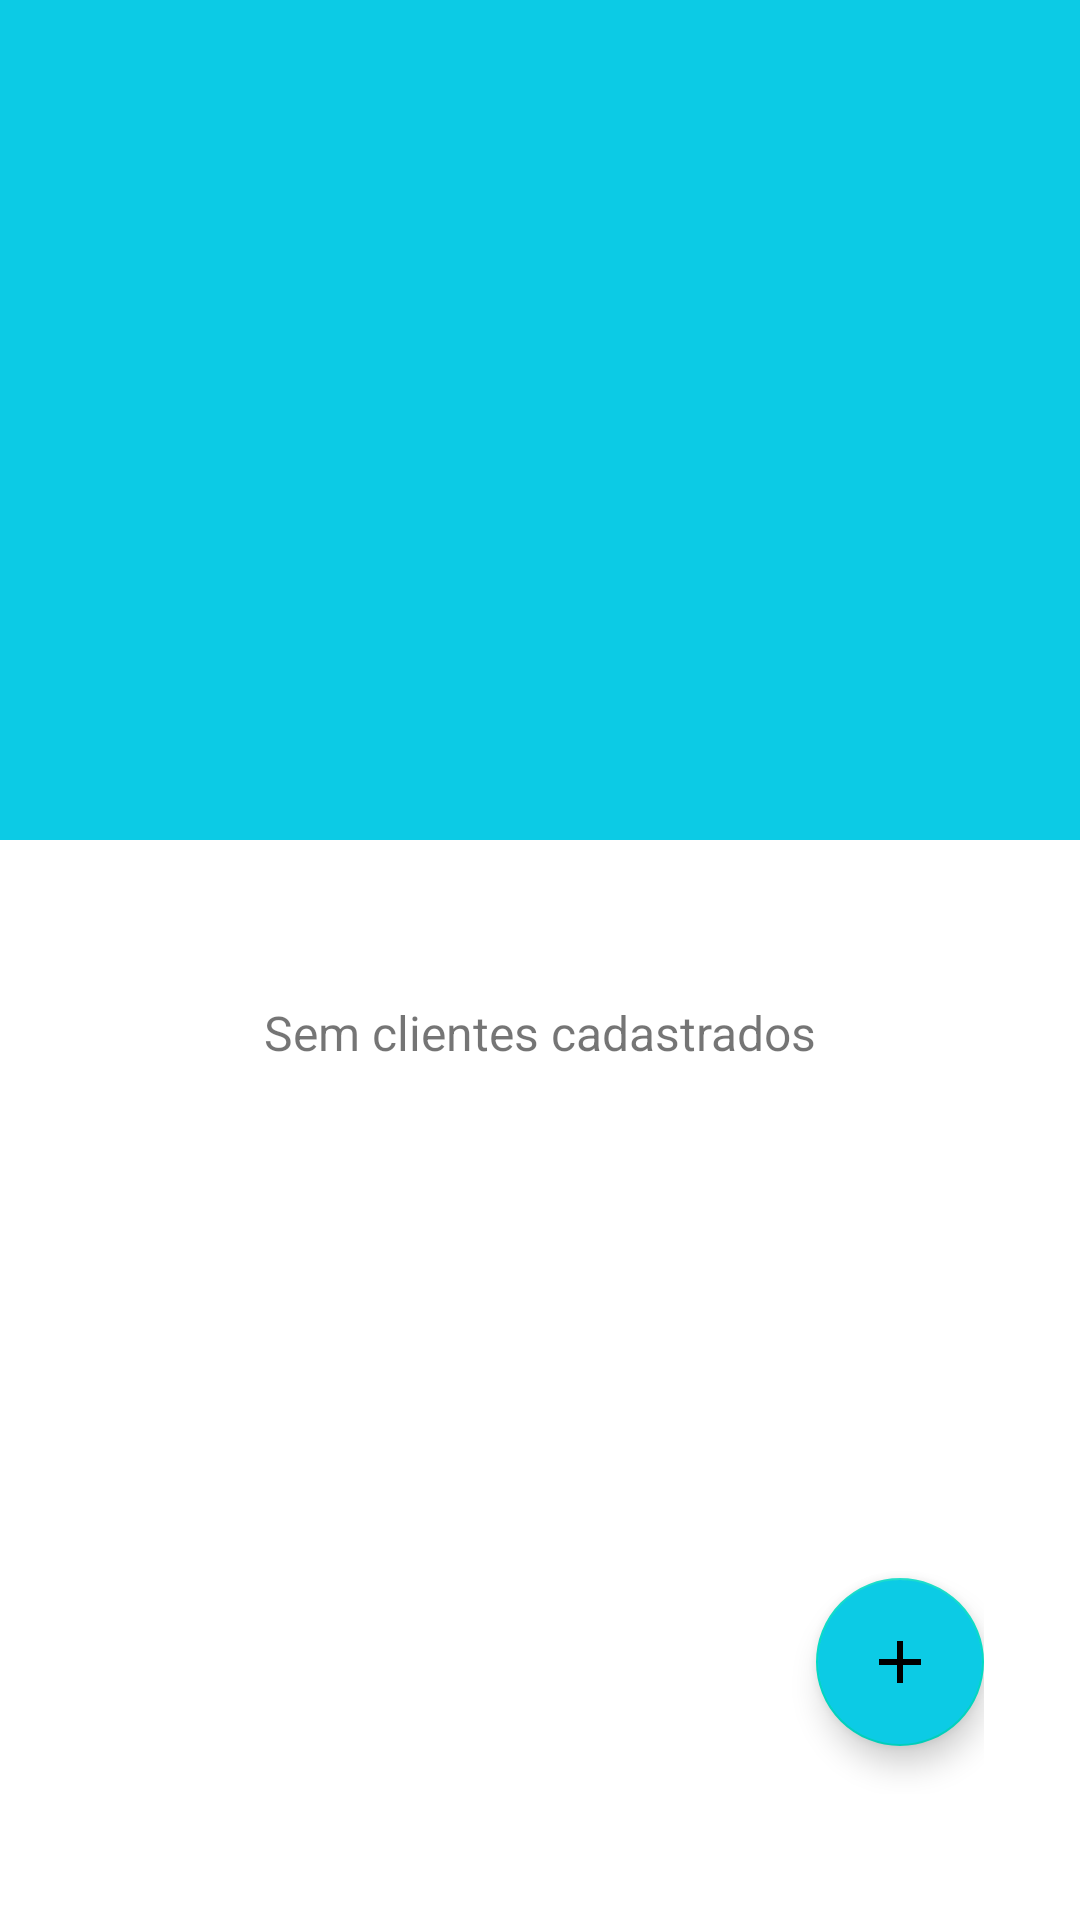

Where icons sit on this 1080w x 1920h app screen, as (x1,y1,x2,y2):
Adicionar cliente: (816,1578,984,1746)
